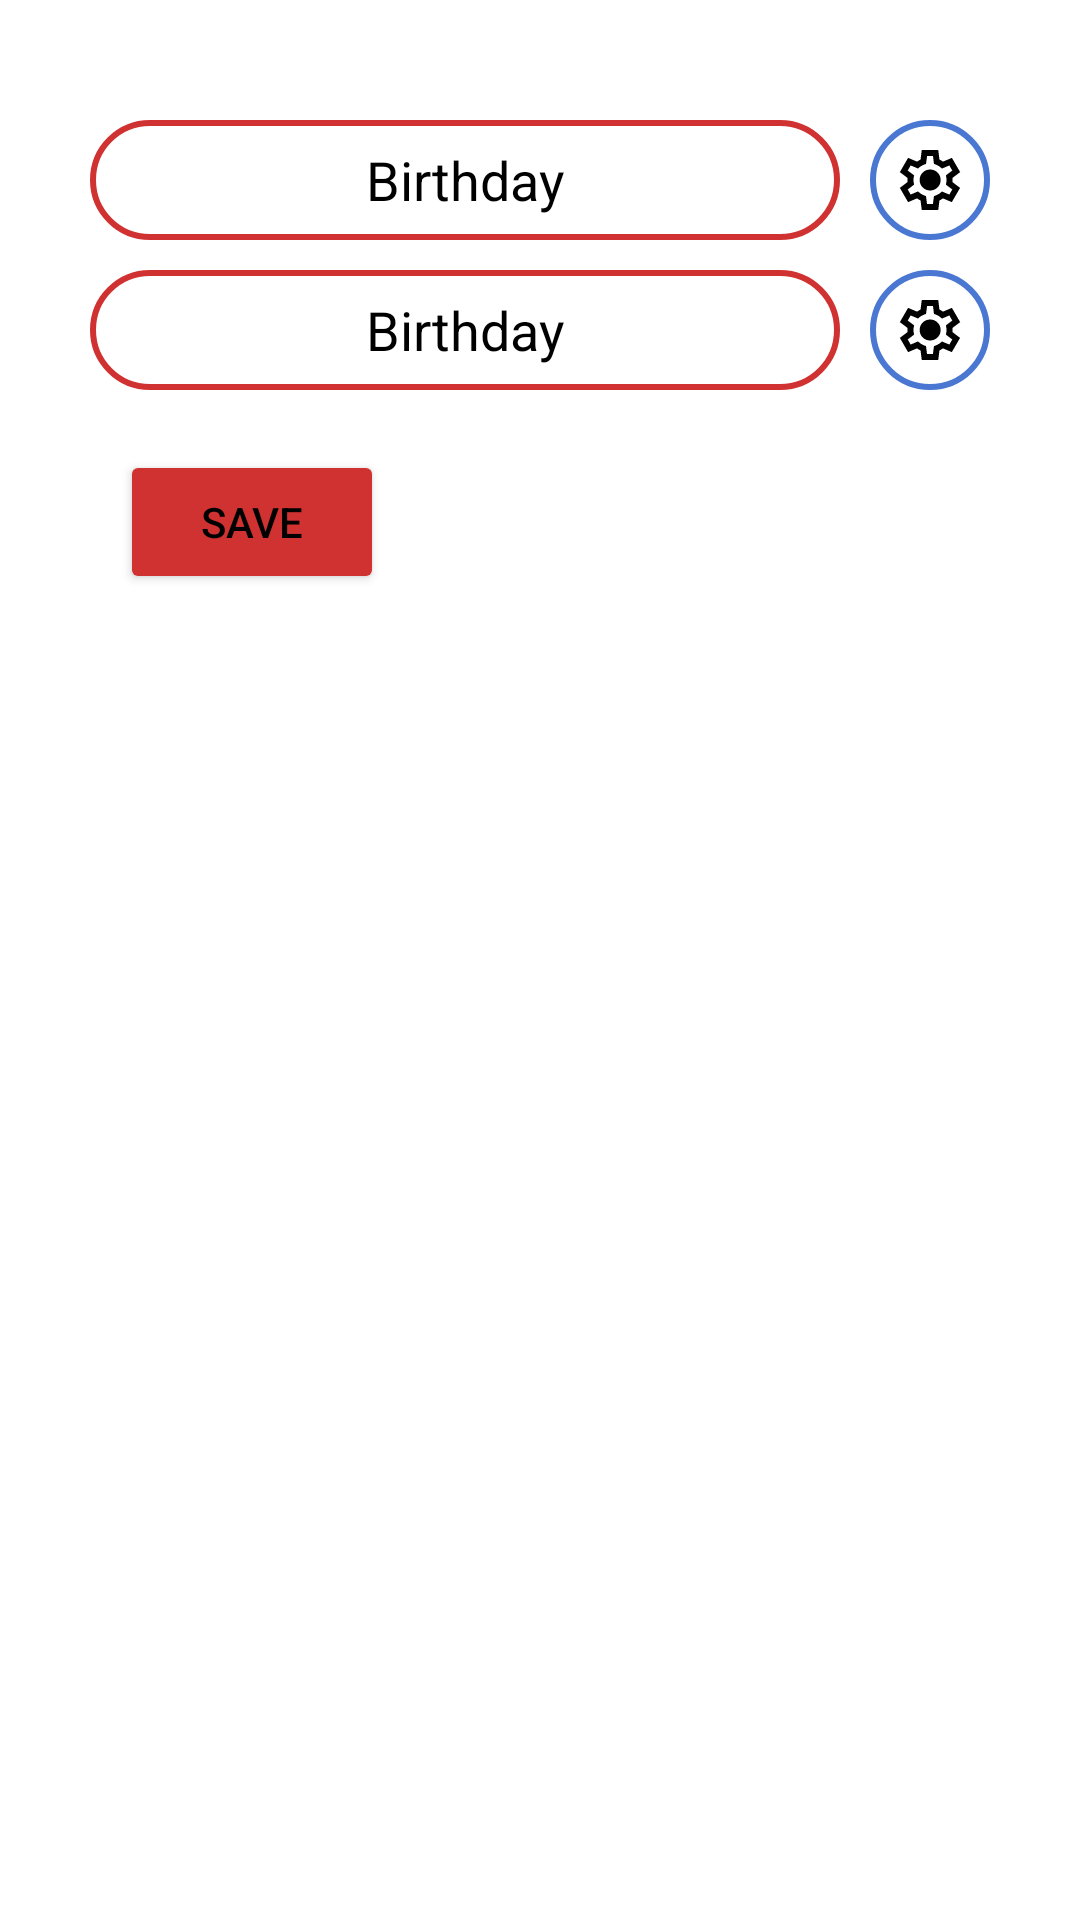

Screen size 1080x1920. Icon name, then its center in pixels as [x,y]:
settings: [930,180], [930,330]
